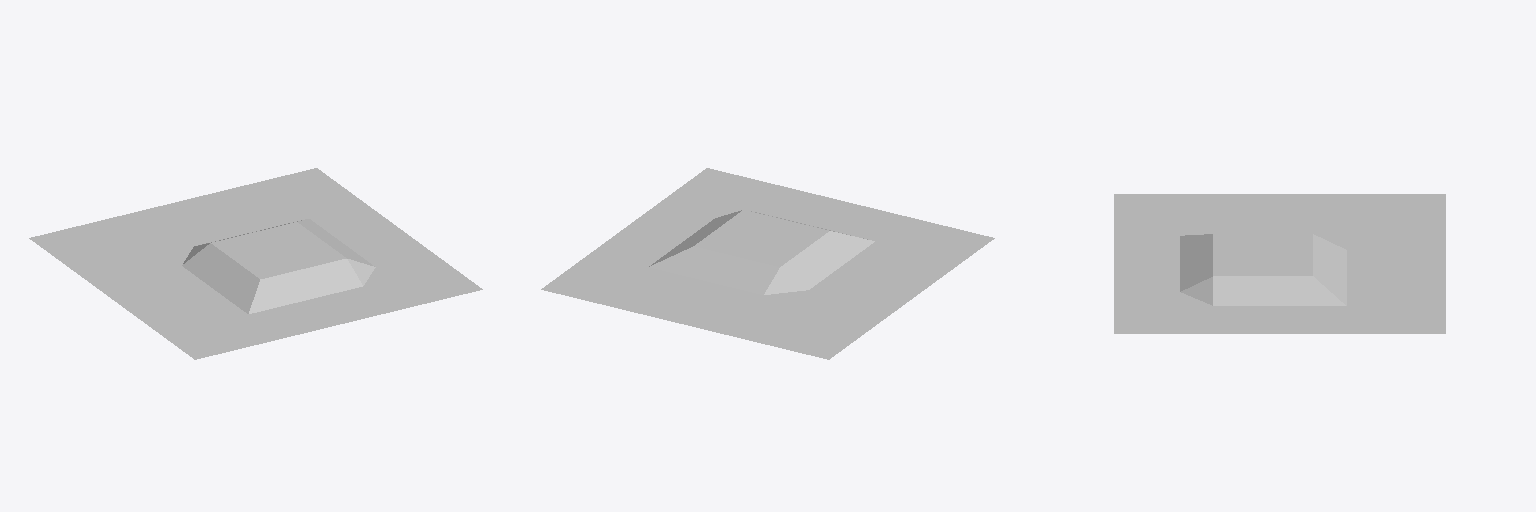
The model's file is world.obj.
3 views of the same model, side by side, from view 1: azimuth 30°, elevation 25°; view 2: azimuth 150°, elevation 25°; view 3: azimuth 270°, elevation 25° (orthographic).
Parts seen in each view (by area): view 1: Plane_Plane.002; view 2: Plane_Plane.002; view 3: Plane_Plane.002.
Part boxes in pixels (bbox=[...]): Plane_Plane.002: bbox=[29, 168, 482, 359]; Plane_Plane.002: bbox=[541, 168, 994, 359]; Plane_Plane.002: bbox=[1114, 194, 1445, 333].
Size of the model in its own units: 10 by 0.524 by 10.